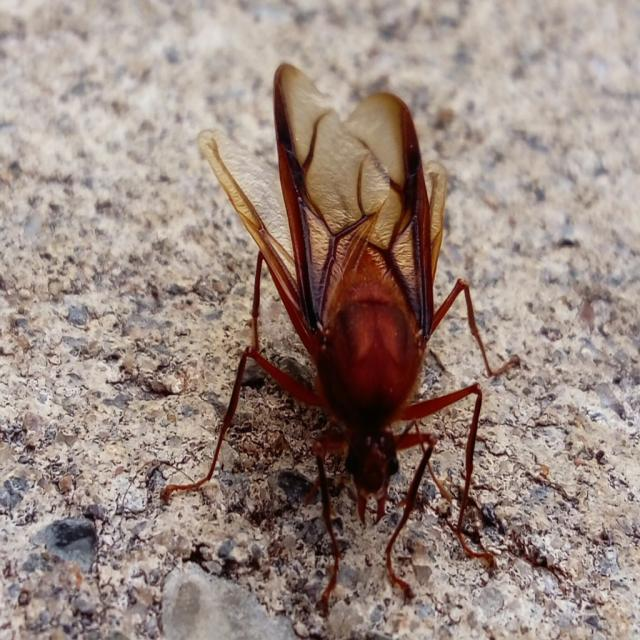Alive-Male-Alate: (156, 62, 522, 612)
